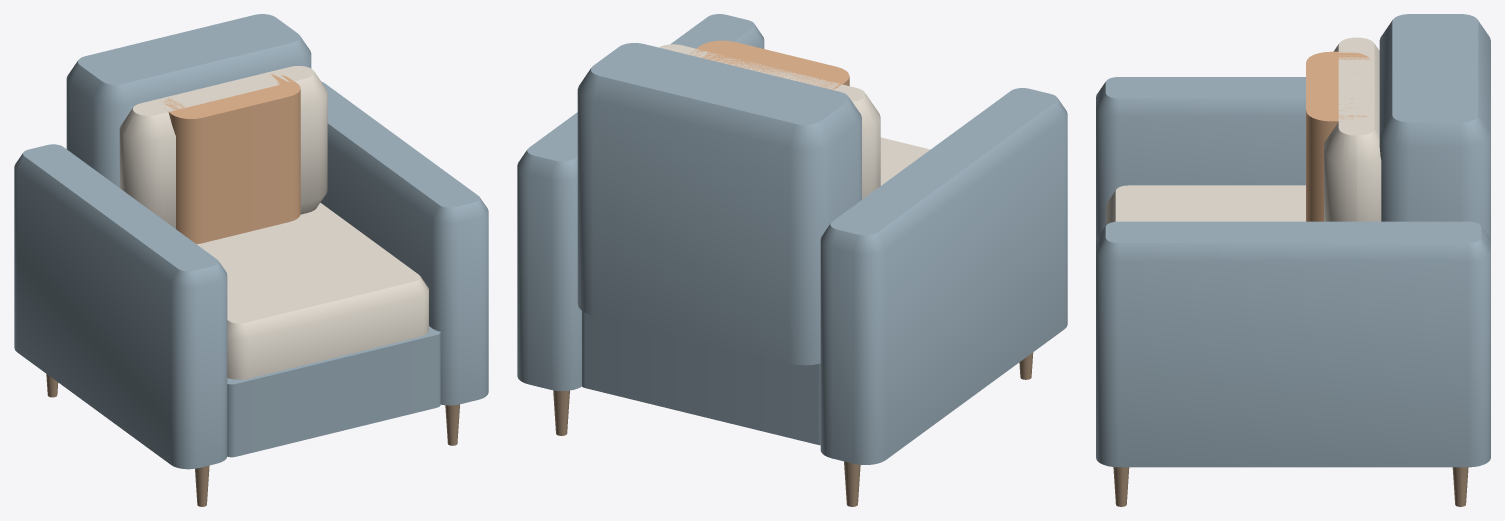
The picture shows the model from 3 angles, left to right: view 1: azimuth 30°, elevation 25°; view 2: azimuth 150°, elevation 25°; view 3: azimuth 270°, elevation 25°; orthographic projection. The views are drawn at different scales.
Parts seen in each view (by area): view 1: Ghế đơn Rộng=800; Sâu=800; view 2: Ghế đơn Rộng=800; Sâu=800; view 3: Ghế đơn Rộng=800; Sâu=800.
Part boxes in pixels (x1,y1,x2,y2): Ghế đơn Rộng=800; Sâu=800: [14, 14, 488, 506]; Ghế đơn Rộng=800; Sâu=800: [517, 14, 1067, 506]; Ghế đơn Rộng=800; Sâu=800: [1096, 14, 1490, 506].
Size of the model in its own units: 0.814 by 0.8 by 0.78.
